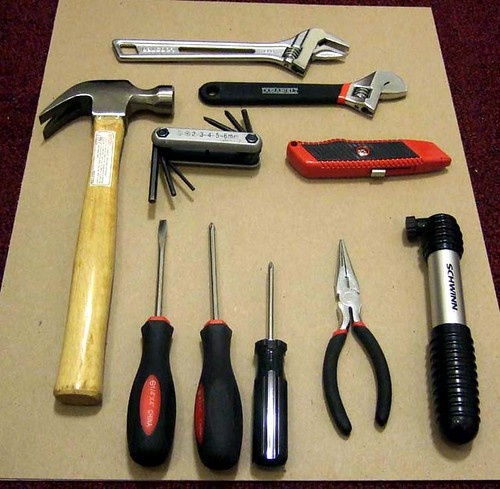hammer: (38, 79, 176, 402)
